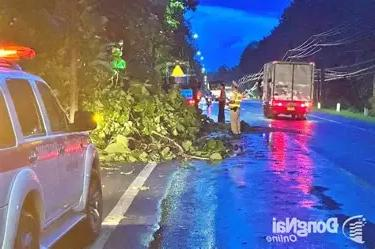ROAD_OBSTACLE: (45, 65, 235, 215)
